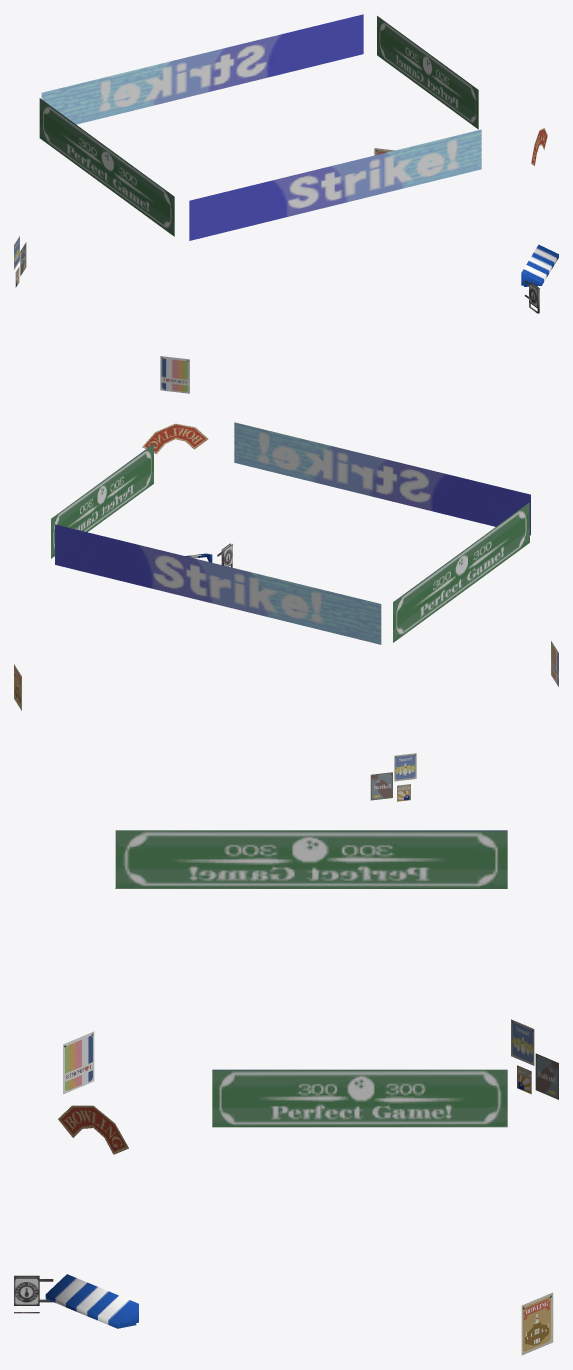
File: FP_jog_island.md.006.obj
3 views of the same model, one above another, from view 1: azimuth 30°, elevation 25°; view 2: azimuth 150°, elevation 25°; view 3: azimuth 270°, elevation 25° (orthographic). The views are drawn at different scales.
Visible parts, largest first — view 1: FP_jog_island.mo.006; view 2: FP_jog_island.mo.006; view 3: FP_jog_island.mo.006.
Part boxes in pixels (x1,y1,x2,y2): FP_jog_island.mo.006: (14,14,558,393); FP_jog_island.mo.006: (14,422,558,801); FP_jog_island.mo.006: (14,830,558,1355).
Bounding box in the file's own units: 4.25 × 1.86 × 3.37.
1 material, 1 textured.
